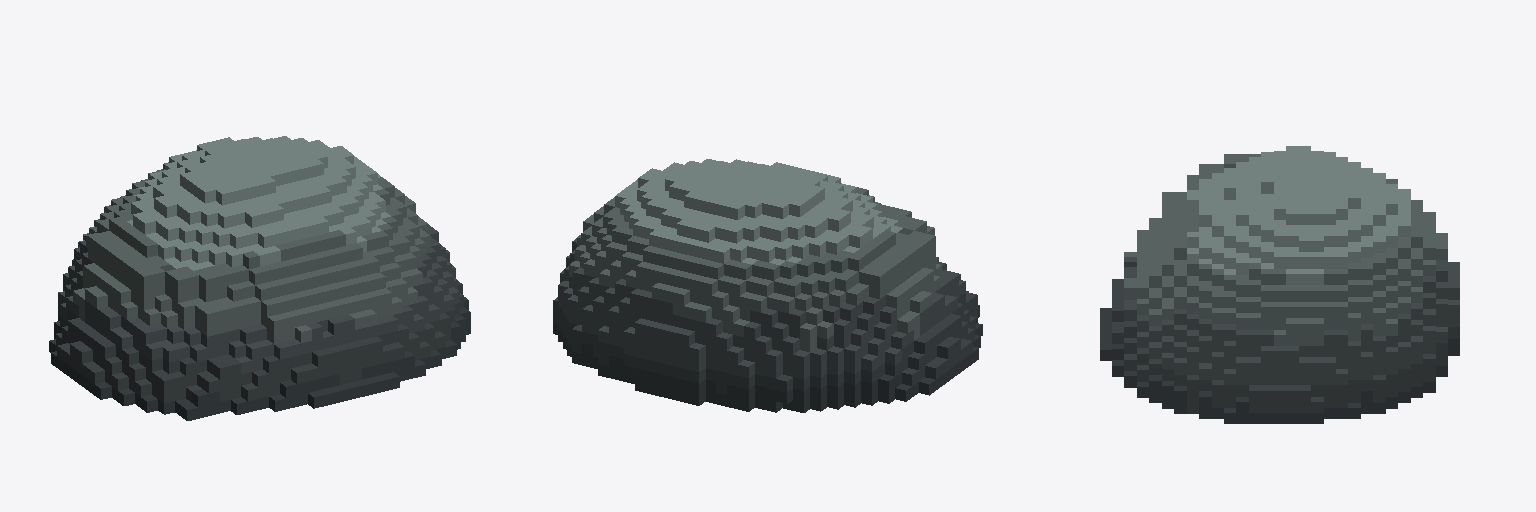
3 views of the same model, side by side, from view 1: azimuth 30°, elevation 25°; view 2: azimuth 150°, elevation 25°; view 3: azimuth 270°, elevation 25° (orthographic).
Parts seen in each view (by area): view 1: object 1; view 2: object 1; view 3: object 1.
Boxes of the visible parts, <box> form: object 1: <box>49,136,470,420</box>; object 1: <box>553,159,982,412</box>; object 1: <box>1100,146,1459,423</box>.
Size of the model in its own units: 3.4 by 1.4 by 2.9.
Materials: 1 (1 with a texture image).